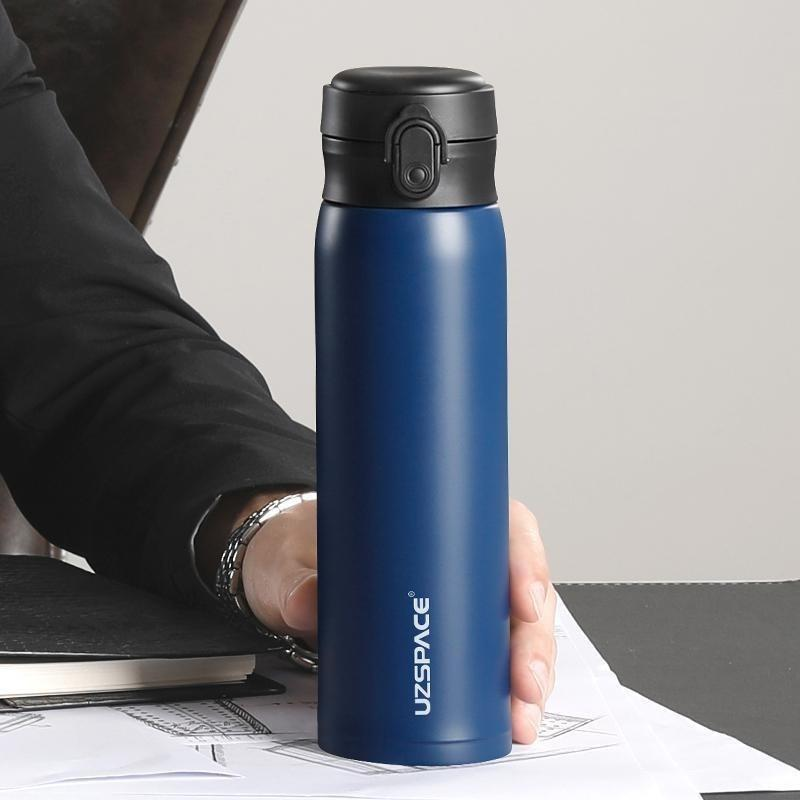gym bottle: (311, 63, 517, 770)
